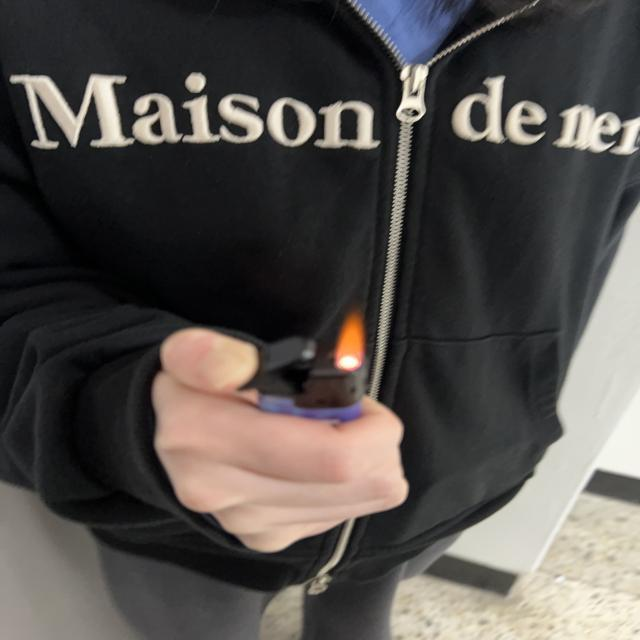fire: (332, 308, 368, 374)
